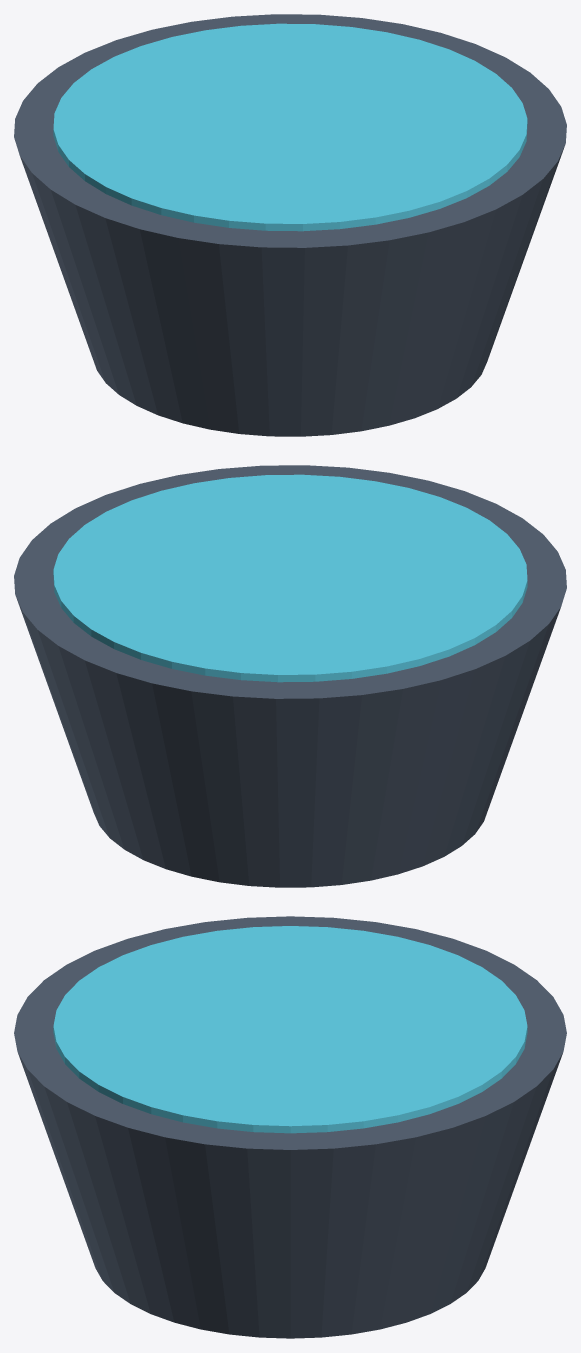
The model's file is SM_Tuyere_Main.obj.
3 renders of one model, top to bottom at view 1: azimuth 30°, elevation 25°; view 2: azimuth 150°, elevation 25°; view 3: azimuth 270°, elevation 25°, orthographic.
Size of the model in its own units: 7000 by 3200 by 7000.
